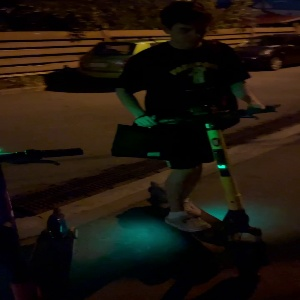human on a scooter: (105, 2, 278, 285)
